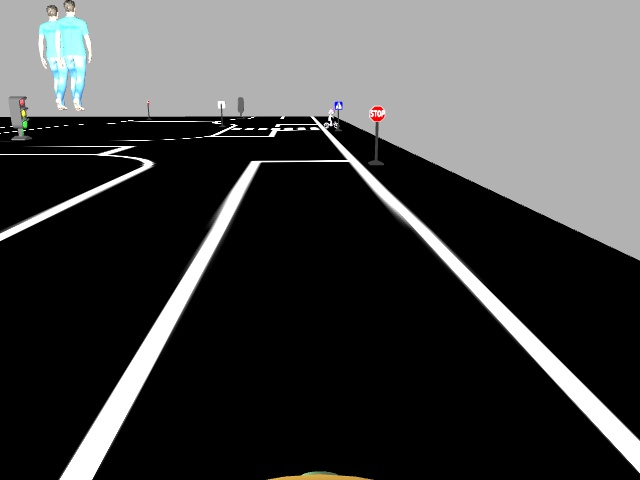Stop: (369, 103, 386, 124)
TrafficLight: (6, 93, 30, 130)
